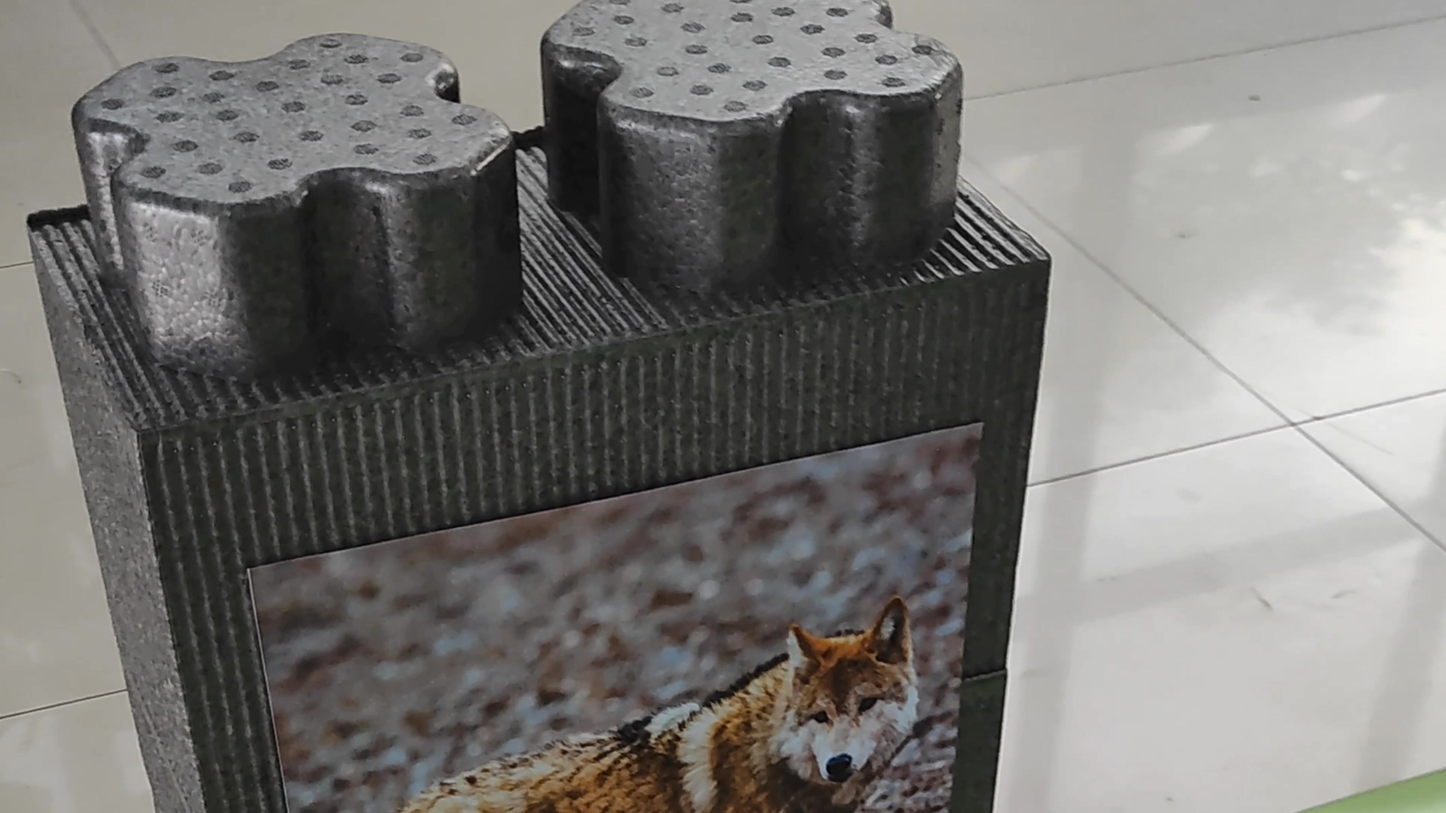wolf: (331, 585, 958, 813)
